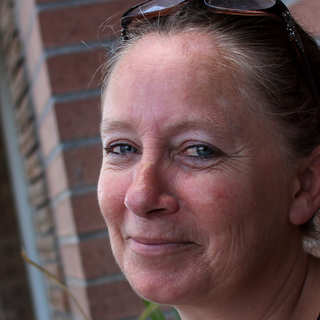eye: (176, 140, 228, 165), (101, 136, 143, 163)
